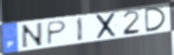2: (121, 9, 141, 36)
D: (144, 6, 168, 33)
I: (77, 16, 85, 42)
N: (21, 21, 45, 50)
P: (46, 20, 68, 46)
X: (95, 11, 118, 40)
